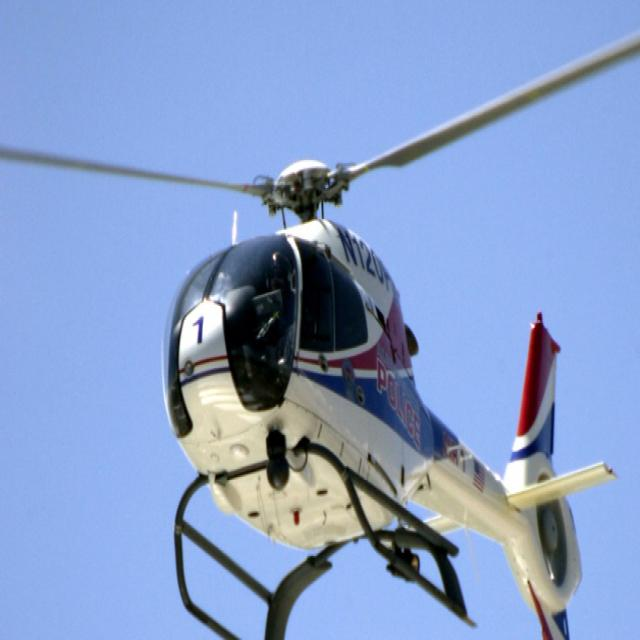helicopter: (3, 1, 640, 640)
